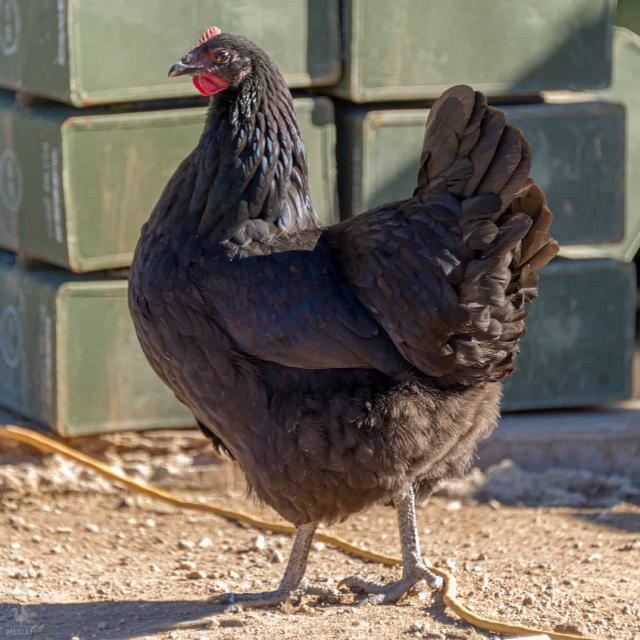Chicken: (125, 22, 556, 616)
